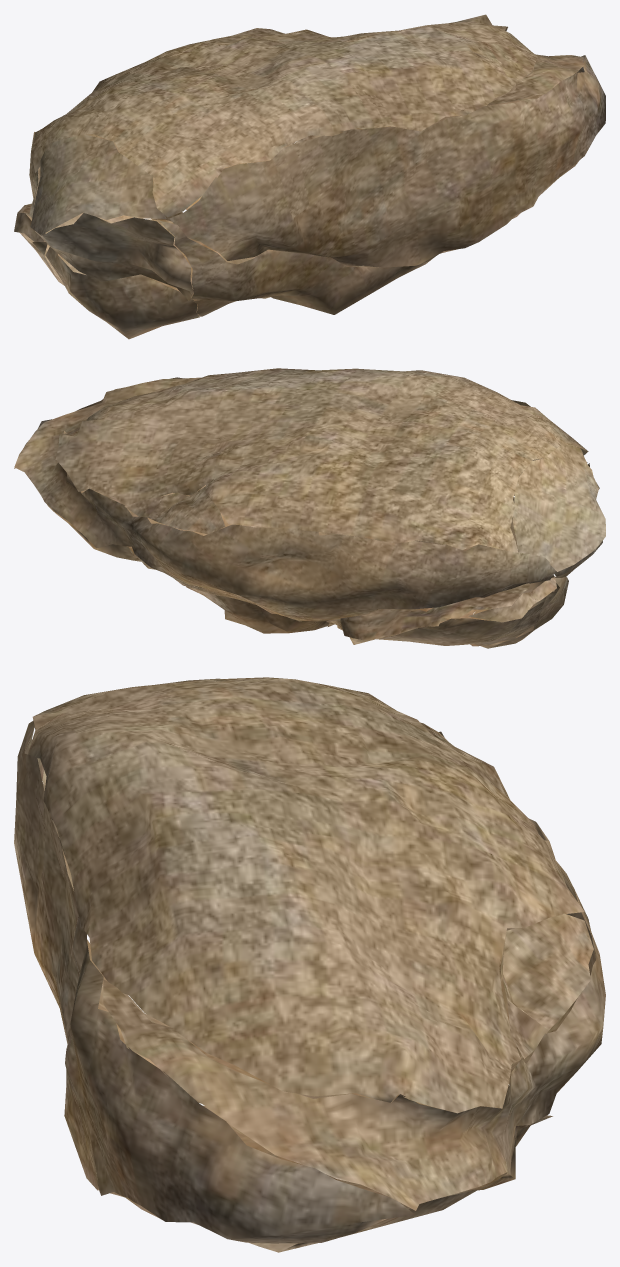
Rendered from namaqualand_boulder_05_lod1.glb.
The picture shows the model from 3 angles, top to bottom: view 1: azimuth 30°, elevation 25°; view 2: azimuth 150°, elevation 25°; view 3: azimuth 270°, elevation 25°; orthographic projection. The views are drawn at different scales.
Parts seen in each view (by area): view 1: namaqualand_boulder_05; view 2: namaqualand_boulder_05; view 3: namaqualand_boulder_05.
Part boxes in pixels (left/top/right/bottom): namaqualand_boulder_05: left=14, top=14, right=605, bottom=339; namaqualand_boulder_05: left=14, top=368, right=605, bottom=648; namaqualand_boulder_05: left=14, top=677, right=605, bottom=1252.
Bounding box in the file's own units: 1.36 × 0.5261 × 0.7375.
1 material, 1 textured.
